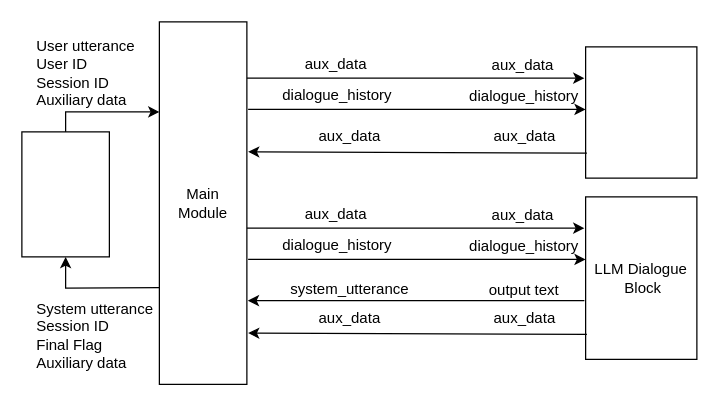
This 719x406 diagram has some shape labels left out. The centre of each missing label's shape, as x and y in pixels:
"Frontend or other app" belongs at (x=65, y=194).
"Passage Retrieval Block" belongs at (x=640, y=112).
